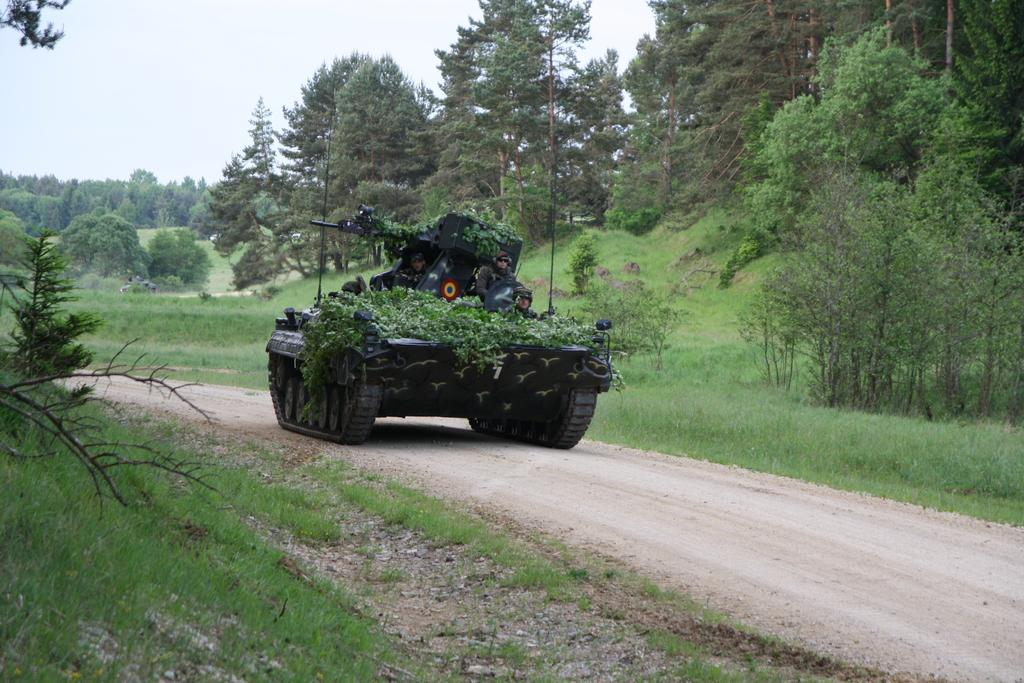Tank: (265, 72, 612, 449)
